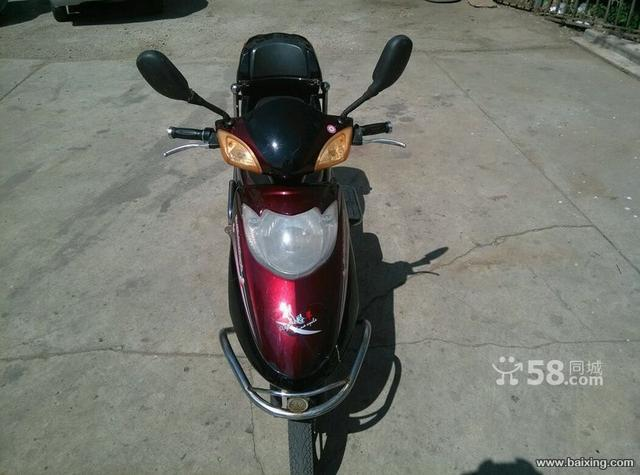电动车: (128, 20, 437, 475)
